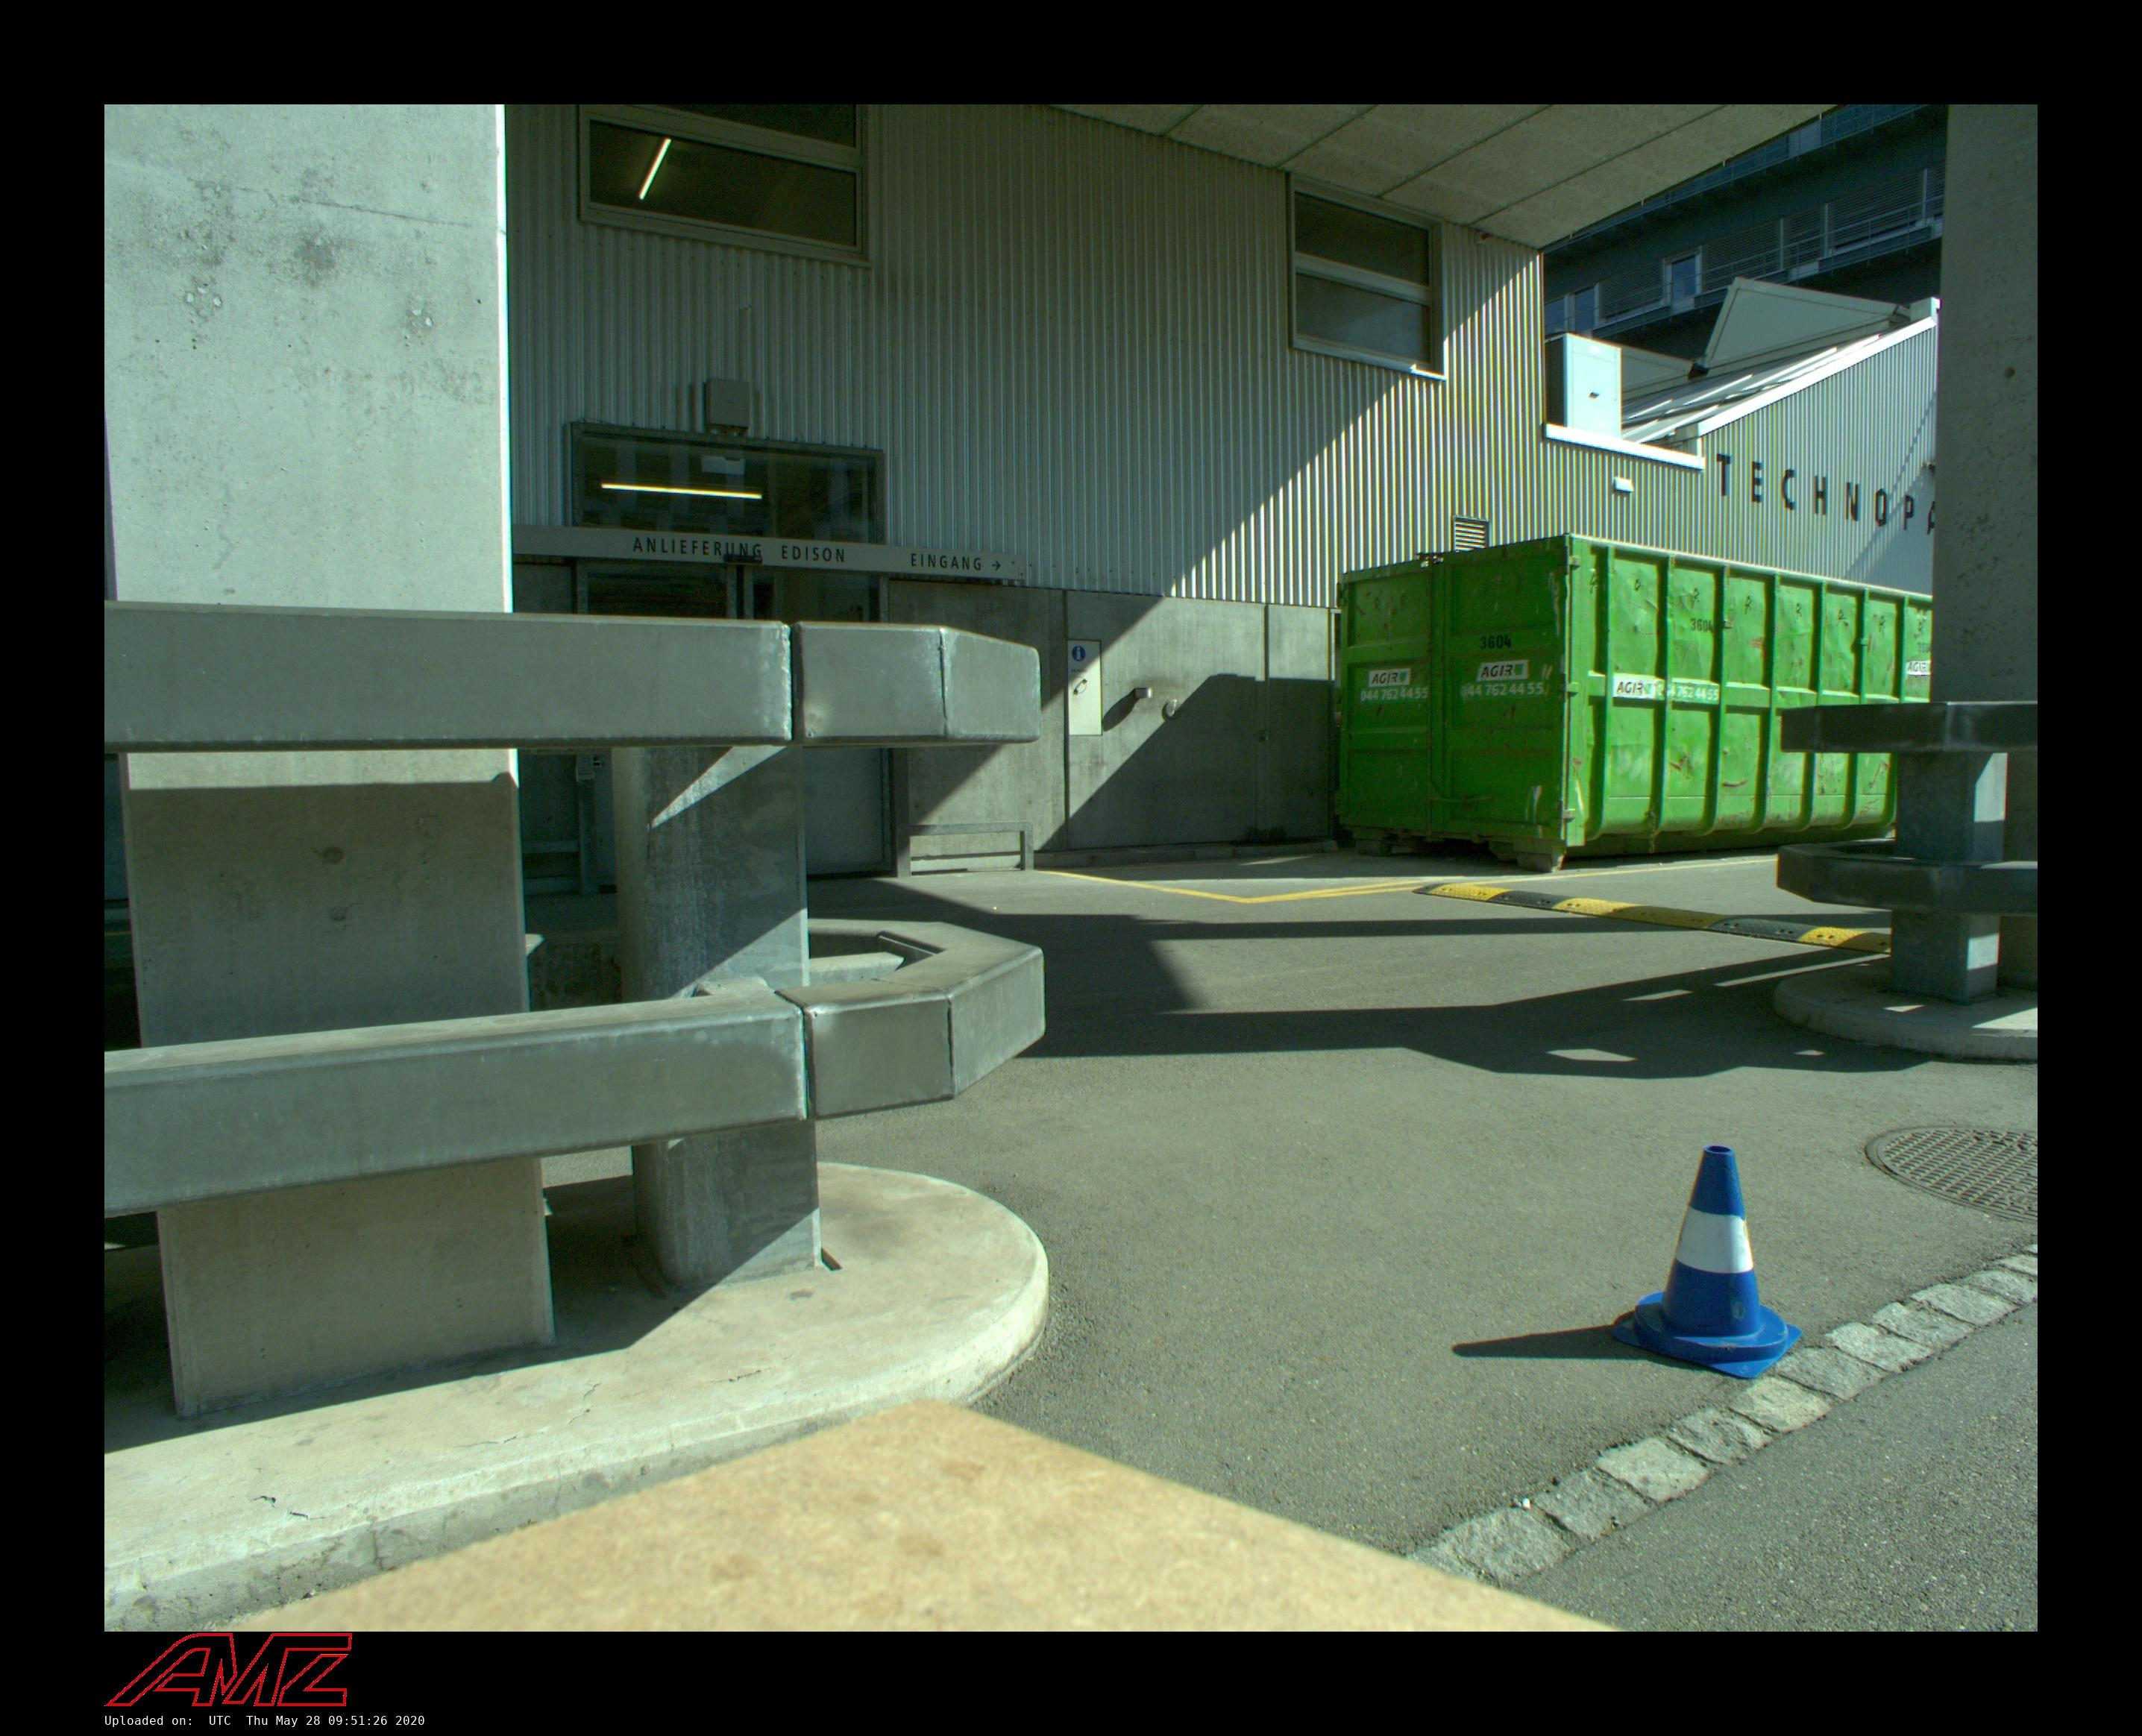blue_cone: (1610, 1144, 1802, 1380)
